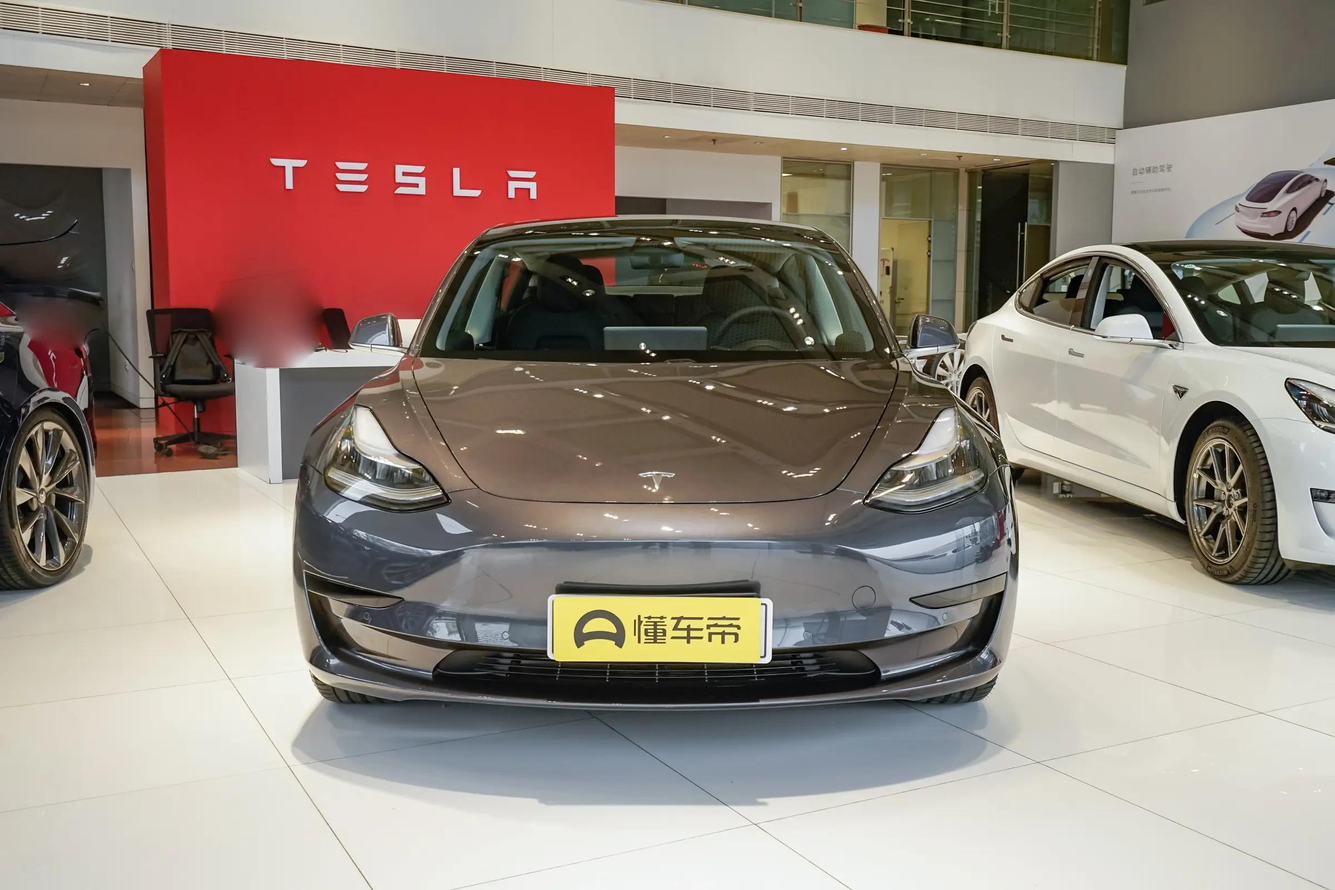Tesla: (639, 471, 676, 491)
